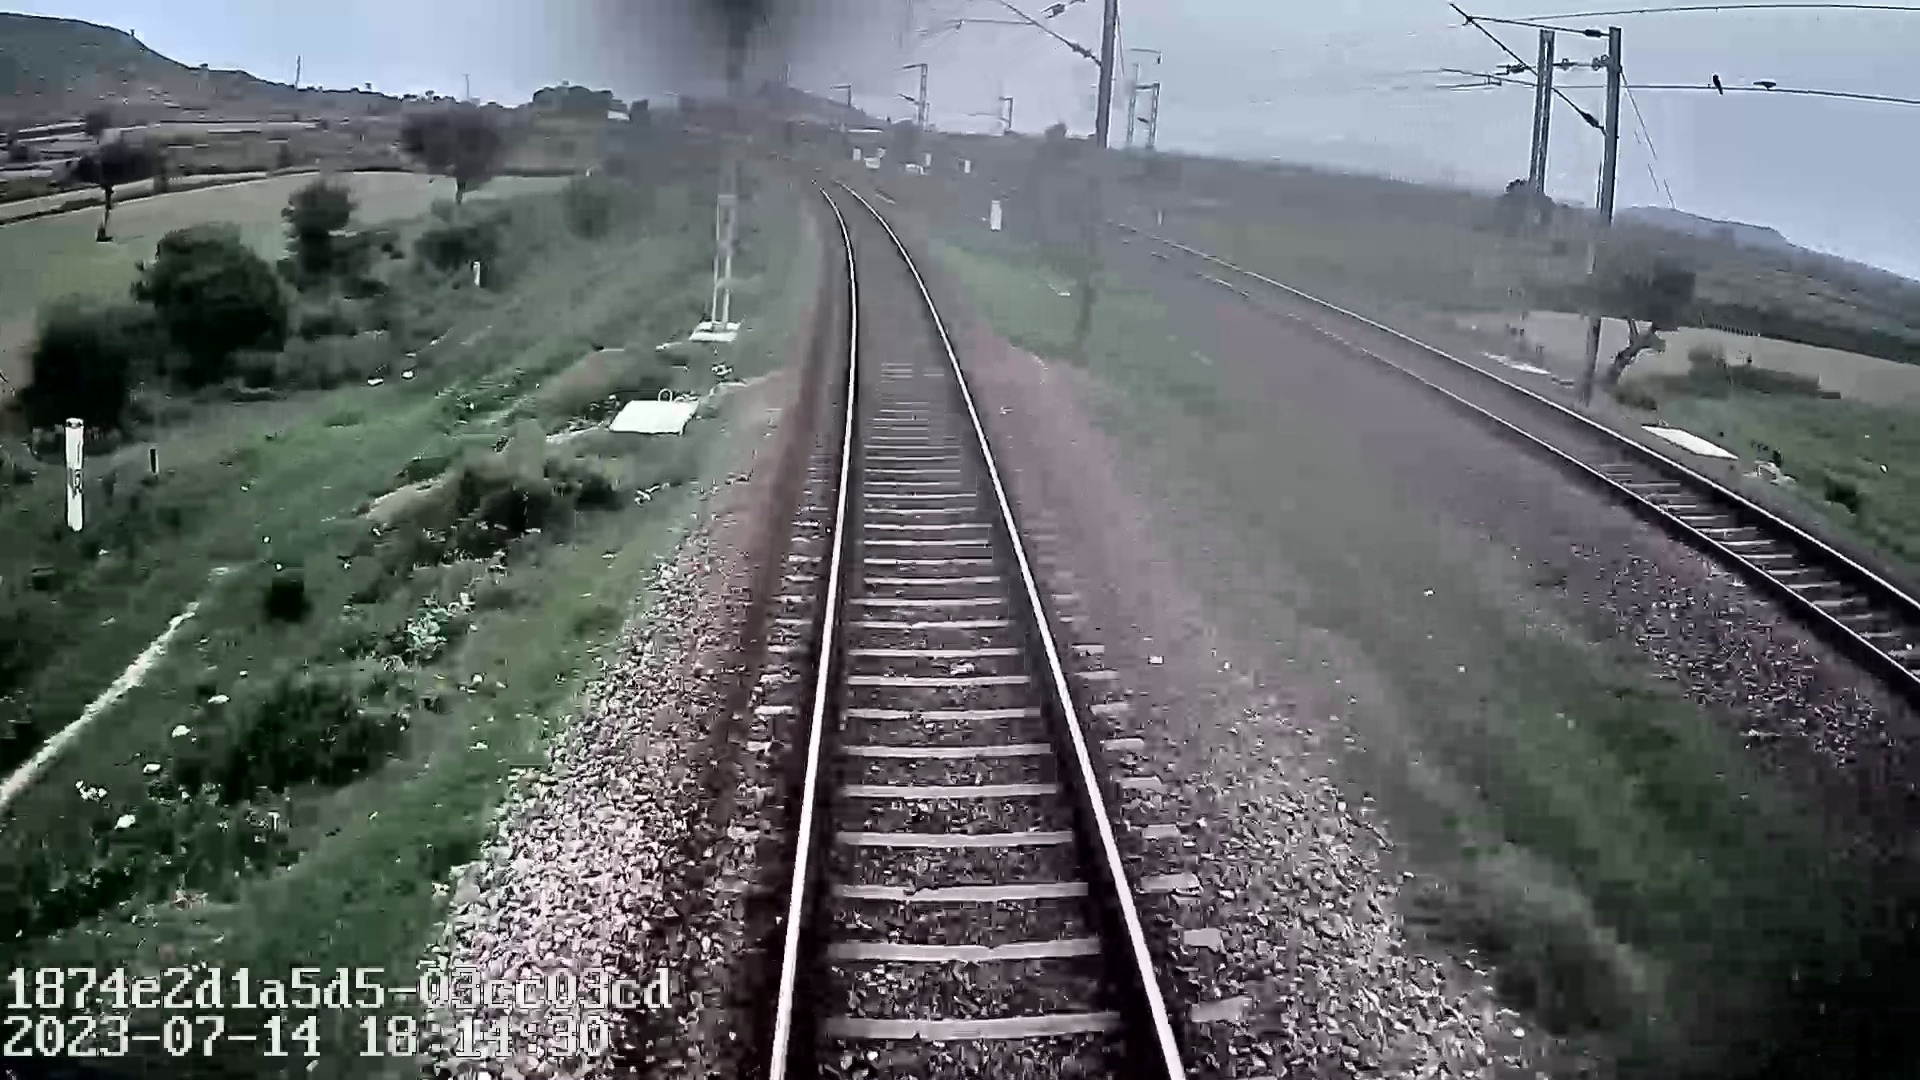track1: (785, 186, 1168, 1048)
track2: (1182, 258, 1913, 665)
